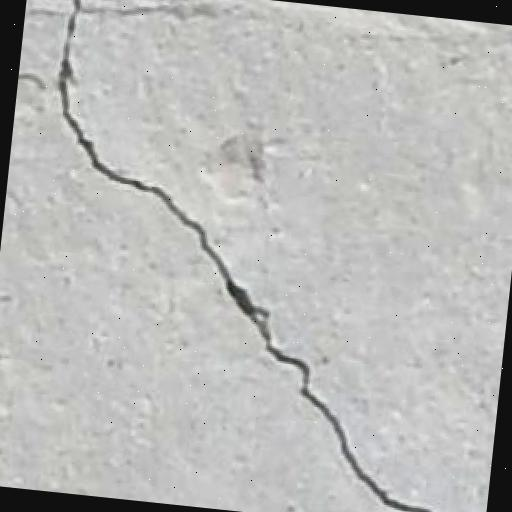spalling: (41, 0, 447, 512)
